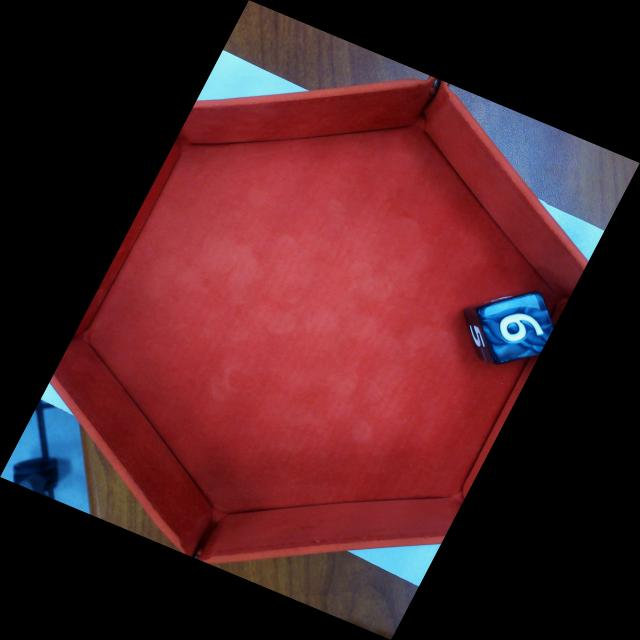dice: (477, 291, 554, 364)
